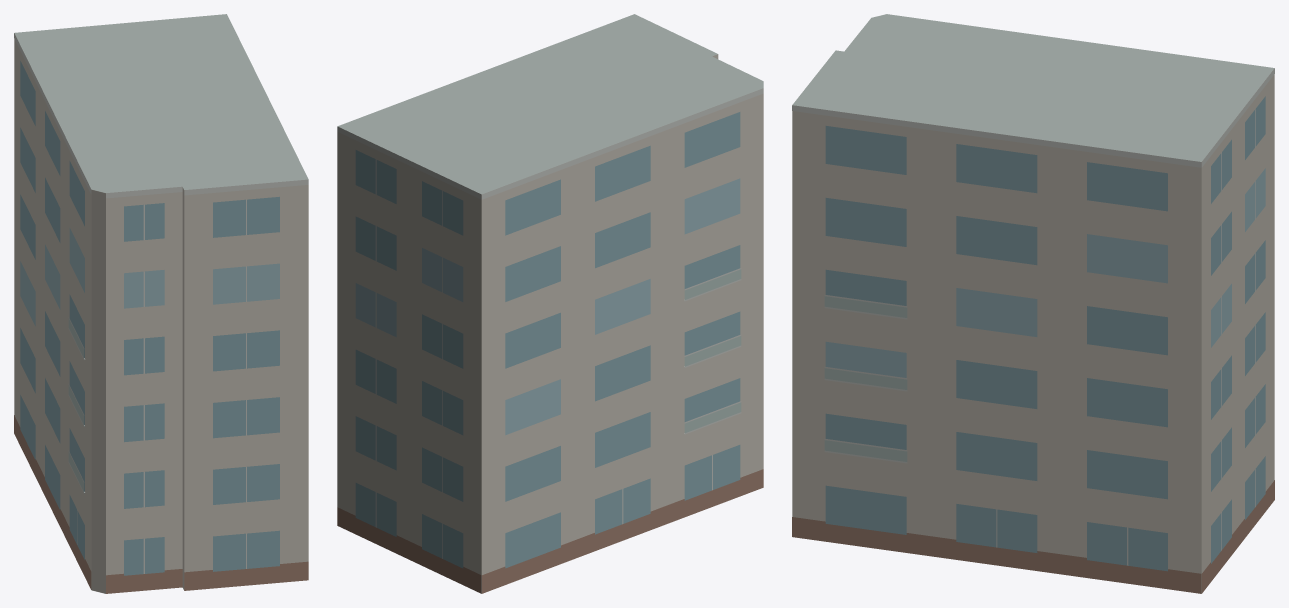
The model's file is survey-upis-32528269.glb.
3 renders of one model, left to right at view 1: azimuth 30°, elevation 25°; view 2: azimuth 150°, elevation 25°; view 3: azimuth 270°, elevation 25°, orthographic. The views are drawn at different scales.
Parts seen in each view (by area): view 1: survey-upis-32528269.tmp; view 2: survey-upis-32528269.tmp; view 3: survey-upis-32528269.tmp.
Boxes of the visible parts, bbox=[...] form: survey-upis-32528269.tmp: bbox=[14, 14, 308, 593]; survey-upis-32528269.tmp: bbox=[337, 14, 763, 593]; survey-upis-32528269.tmp: bbox=[792, 14, 1274, 593].
Bounding box in the file's own units: 13.46 × 18.3 × 18.55.
